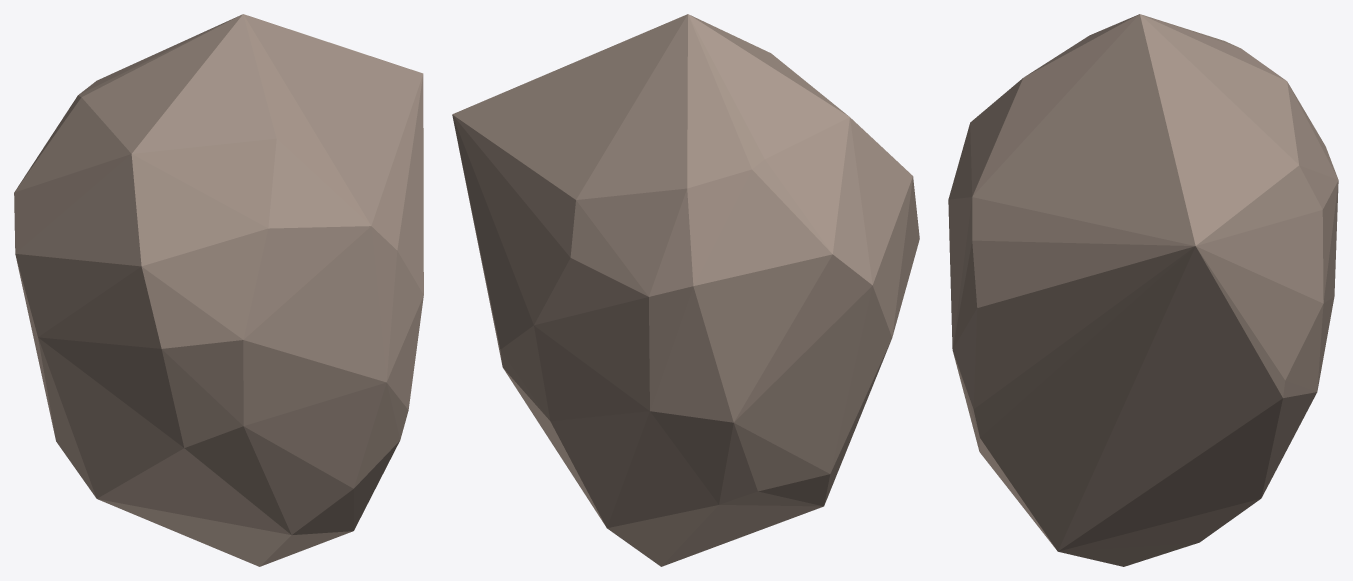
Rendered from food_produce_mango_f01.glb.
The picture shows the model from 3 angles, left to right: view 1: azimuth 30°, elevation 25°; view 2: azimuth 150°, elevation 25°; view 3: azimuth 270°, elevation 25°; orthographic projection.
Parts seen in each view (by area): view 1: geometry_0; view 2: geometry_0; view 3: geometry_0.
Part boxes in pixels (<box>): geometry_0: <box>14,14,423,566</box>; geometry_0: <box>452,14,919,566</box>; geometry_0: <box>948,14,1338,566</box>.
Size of the model in its own units: 0.3761 by 0.4763 by 0.3069.
